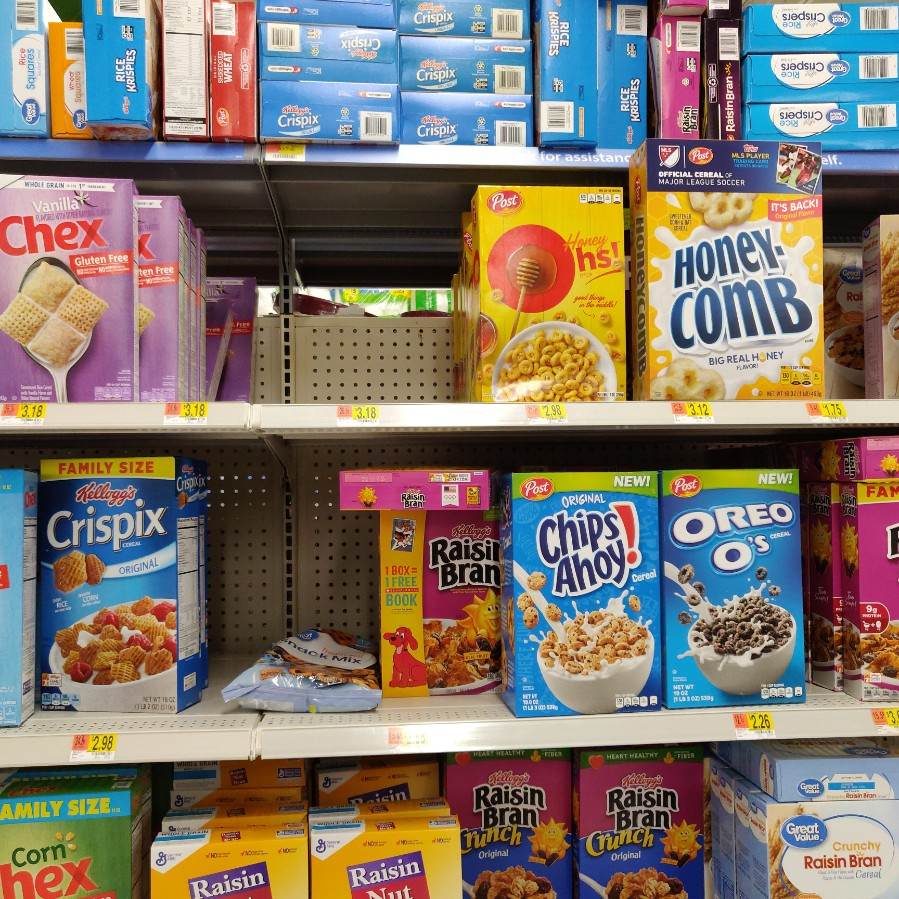Chips Ahoys-565717529: (506, 469, 664, 710)
Honey Comb- 009288857: (641, 141, 819, 397)
Oreo-563424384: (663, 467, 805, 700)
